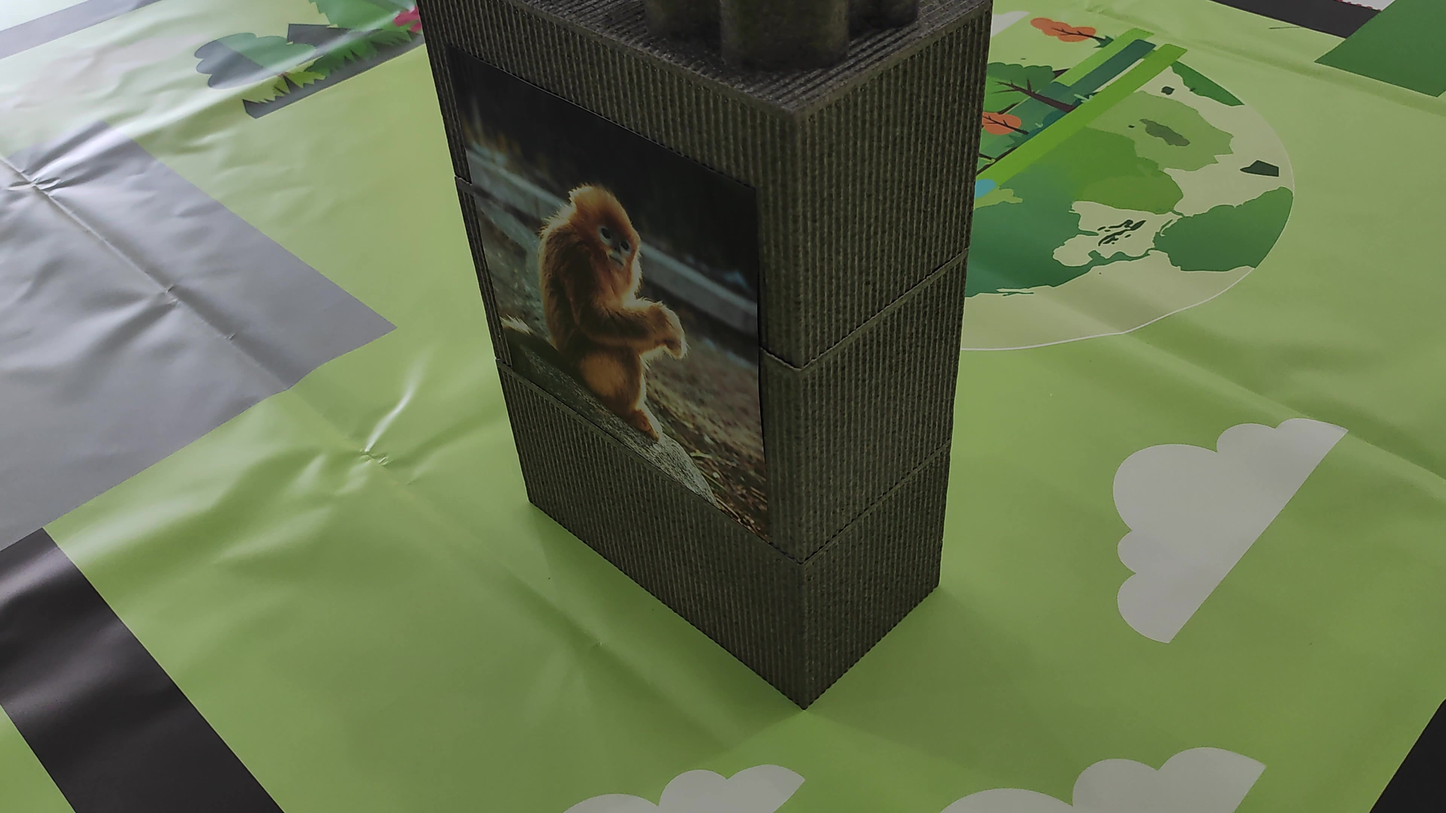monkey: (488, 137, 711, 441)
